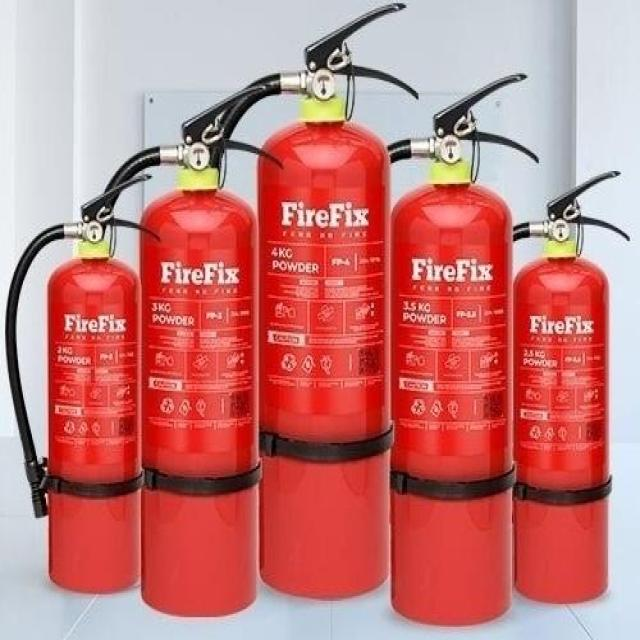fire_extinguisher: (182, 0, 424, 603), (324, 68, 541, 632), (80, 77, 286, 622), (456, 165, 634, 608), (1, 168, 164, 596)
